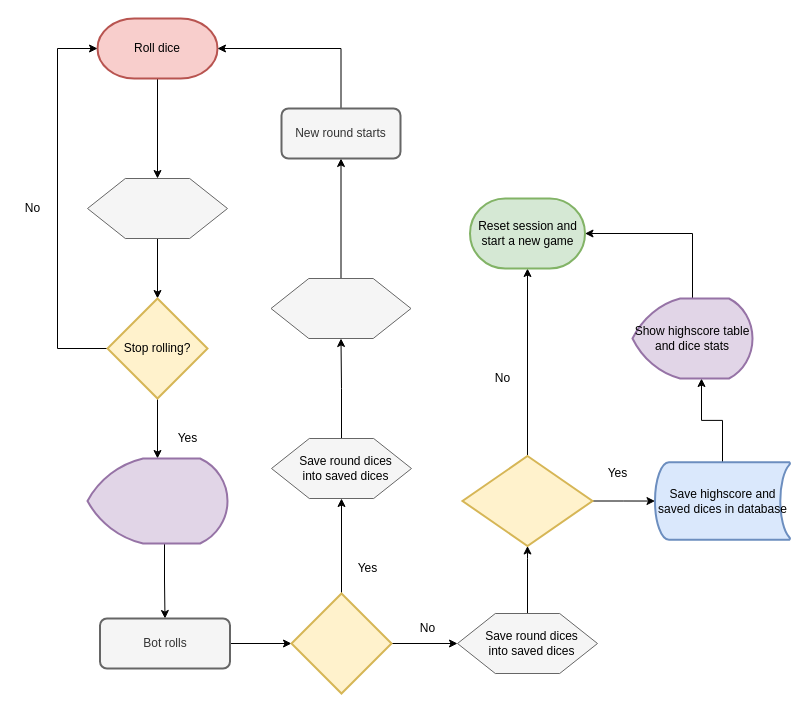
Some shapes in this 808 by 711 pixel diagram are drawn without their labels. The shapes that lost their labels are listed below. From the top down, each one's centre as x and y in pixels, then its label:
[157,208]: Save round dices
[340,308]: Reset round dices
[157,500]: Display sum and average of round dices
[527,500]: Save highscore?
[341,643]: New round?
